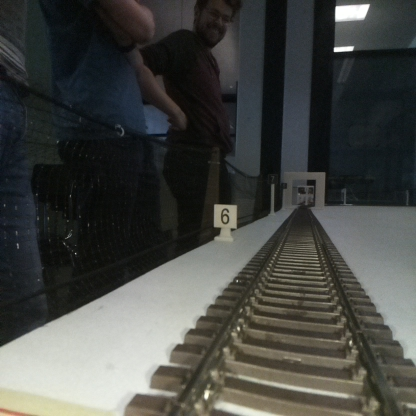black-info-7: (268, 172, 277, 214)
white-stop-6: (213, 205, 236, 241)
